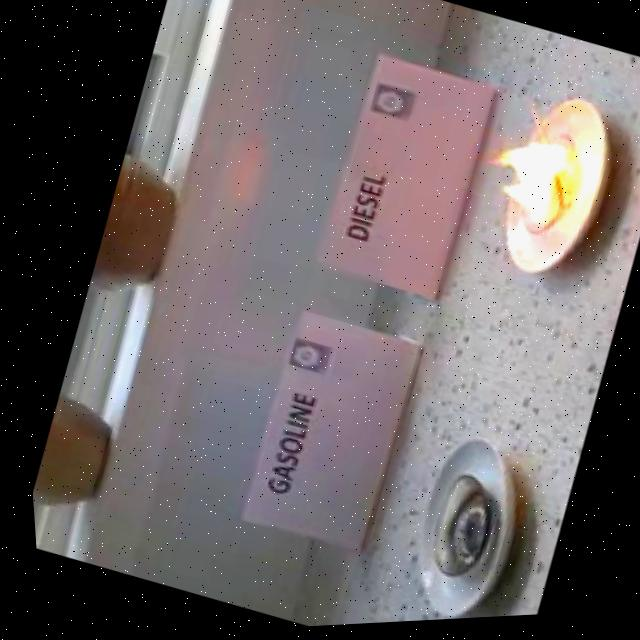Fire: (465, 126, 583, 237)
